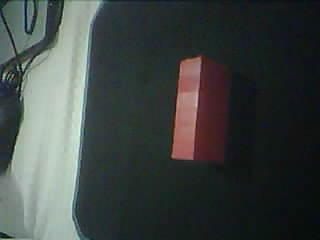lego: (170, 55, 231, 161)
